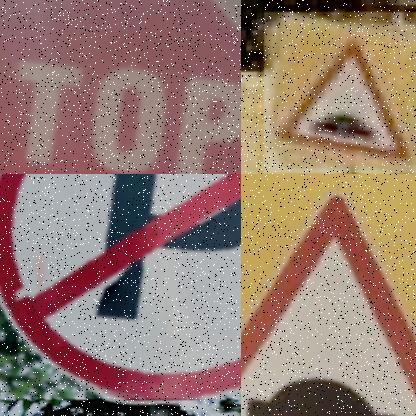No Parking: (0, 174, 241, 398)
Speed Breaker Ahead: (241, 174, 416, 416), (264, 13, 416, 172)
